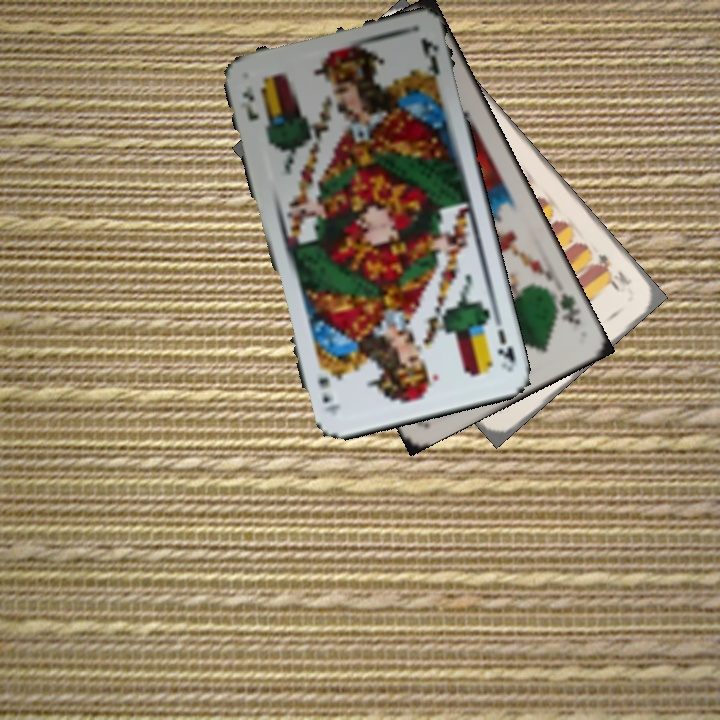E10: (592, 249, 635, 292)
EK: (493, 325, 518, 371), (236, 82, 262, 124)
GK: (556, 289, 584, 328)
